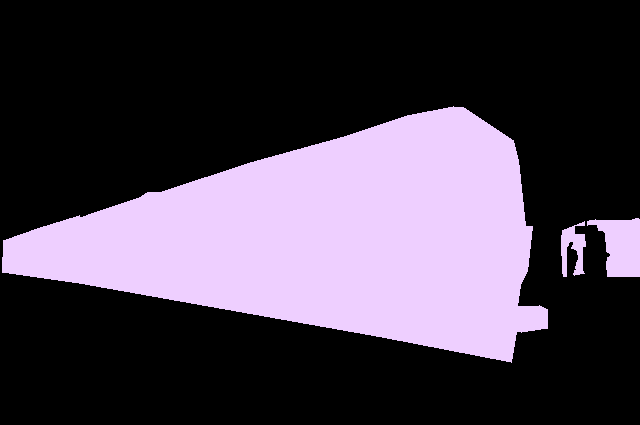Train: (2, 106, 547, 363), (561, 218, 640, 277)
